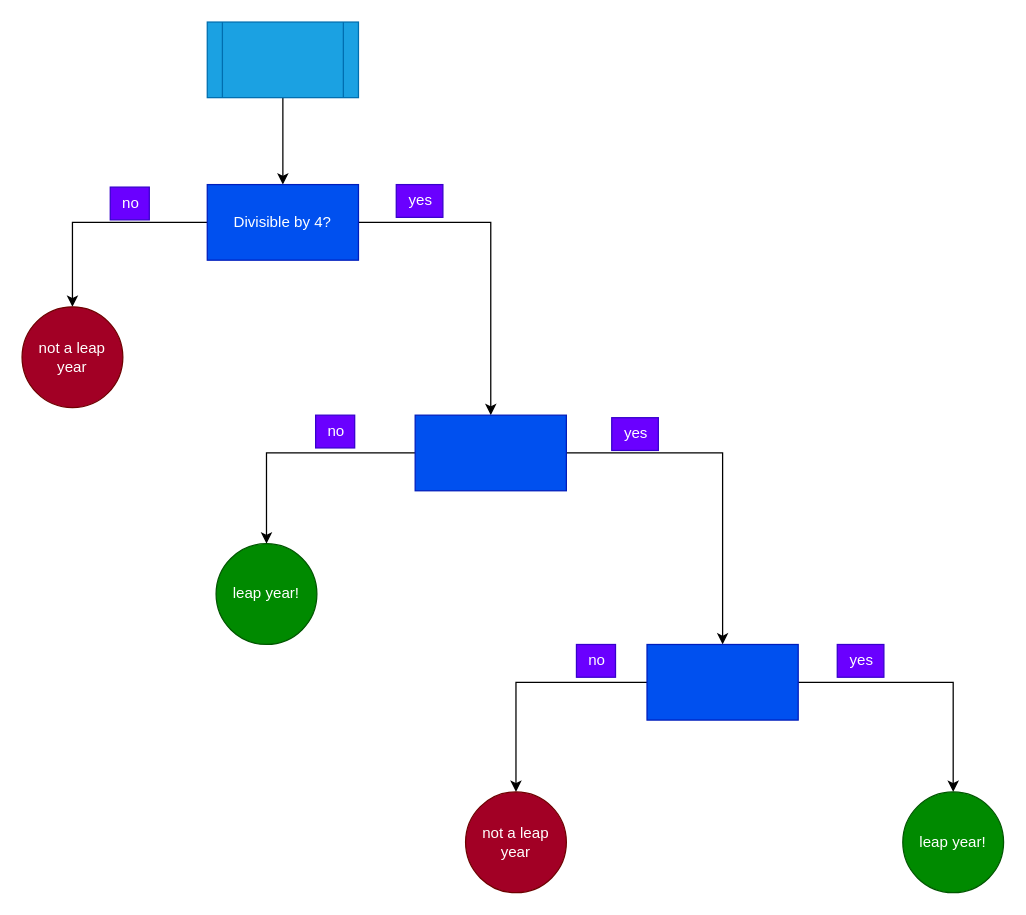
Some shapes in this 1026 by 915 pixel diagram are drawn without their labels. The centre of each missing label's shape, as x and y in pixels:
"Divisble by 400?" goes at (722,681).
"Divisible by 100?" goes at (490,452).
"Get year" goes at (282,59).
